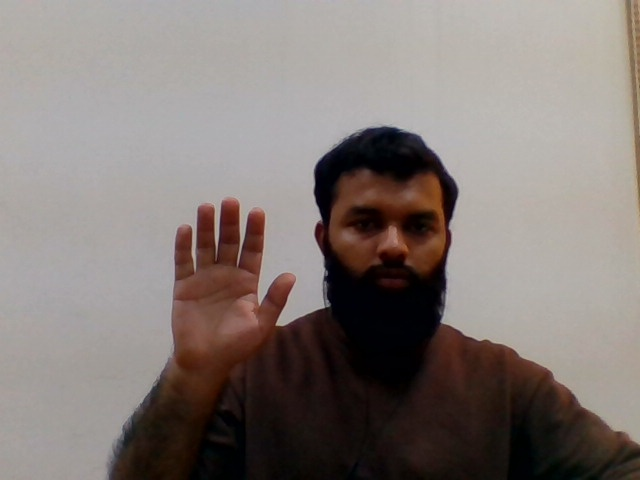Hello: (166, 191, 304, 376)
